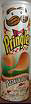grozi_36: (0, 0, 31, 103)
